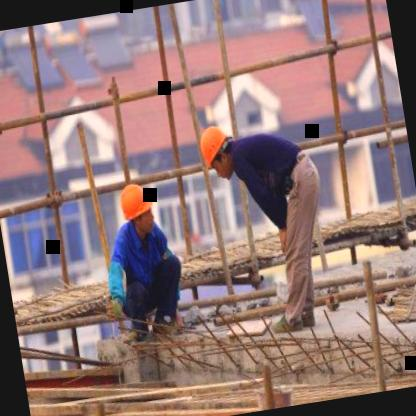helmet: (192, 112, 244, 186), (113, 174, 163, 244)
